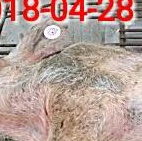text: (37, 16, 68, 47)
